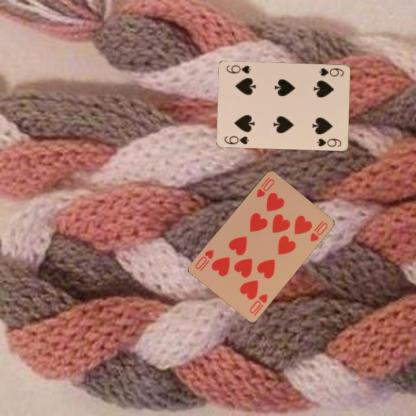10h: (254, 174, 276, 199), (246, 291, 268, 314)
6s: (317, 66, 345, 78), (222, 133, 250, 145)
